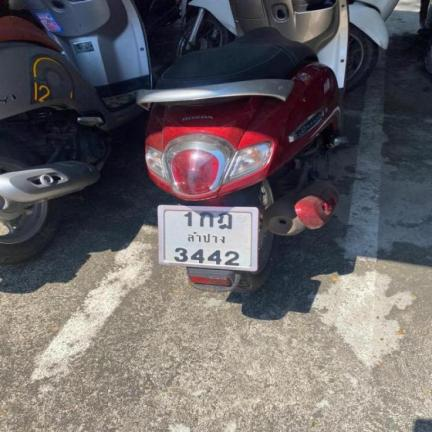1: (182, 211, 193, 228)
2: (225, 249, 240, 266)
3: (173, 246, 188, 263)
4: (207, 248, 224, 265), (189, 248, 206, 264)
A01: (197, 211, 215, 227)
A14: (217, 211, 234, 232)
LPG: (184, 231, 226, 244)
